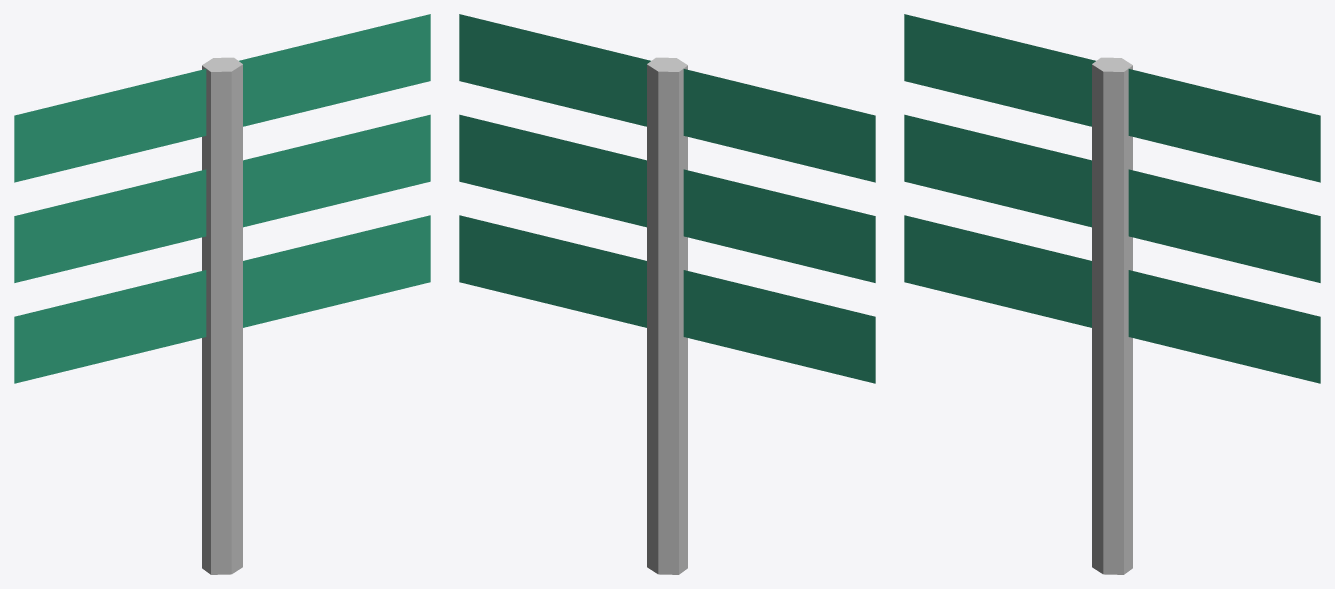
Rendered from doble_signs_6.glb.
3 renders of one model, left to right at view 1: azimuth 30°, elevation 25°; view 2: azimuth 150°, elevation 25°; view 3: azimuth 330°, elevation 25°, orthographic.
Visible parts, largest first — view 1: Cylinder.002, Plane.036, Plane.032, Plane.034, Plane.047, Plane.035, Plane.033; view 2: Cylinder.002, Plane.036, Plane.032, Plane.034, Plane.047, Plane.035, Plane.033; view 3: Cylinder.002, Plane.035, Plane.047, Plane.033, Plane.032, Plane.036, Plane.034.
Part boxes in pixels (x1=…): Cylinder.002: x1=202, y1=57, x2=242, y2=574; Plane.036: x1=14, y1=270, x2=206, y2=383; Plane.032: x1=14, y1=69, x2=206, y2=182; Plane.034: x1=14, y1=169, x2=206, y2=282; Plane.047: x1=239, y1=14, x2=430, y2=126; Plane.035: x1=243, y1=215, x2=430, y2=327; Plane.033: x1=243, y1=114, x2=430, y2=227; Cylinder.002: x1=647, y1=57, x2=687, y2=574; Plane.036: x1=683, y1=270, x2=875, y2=383; Plane.032: x1=683, y1=69, x2=875, y2=182; Plane.034: x1=683, y1=169, x2=875, y2=282; Plane.047: x1=459, y1=14, x2=650, y2=126; Plane.035: x1=459, y1=215, x2=646, y2=327; Plane.033: x1=459, y1=114, x2=646, y2=227; Cylinder.002: x1=1092, y1=57, x2=1132, y2=574; Plane.035: x1=1128, y1=270, x2=1320, y2=383; Plane.047: x1=1128, y1=69, x2=1320, y2=182; Plane.033: x1=1128, y1=169, x2=1320, y2=282; Plane.032: x1=904, y1=14, x2=1095, y2=126; Plane.036: x1=904, y1=215, x2=1091, y2=327; Plane.034: x1=904, y1=114, x2=1091, y2=227.
Bounding box in the file's own units: 2.6 × 3 × 0.2.
